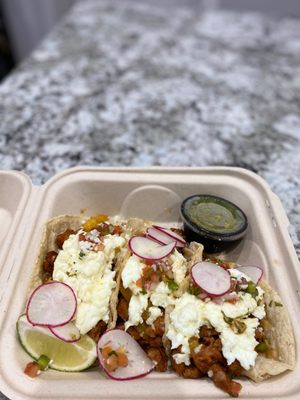sushi: (4, 166, 299, 396)
